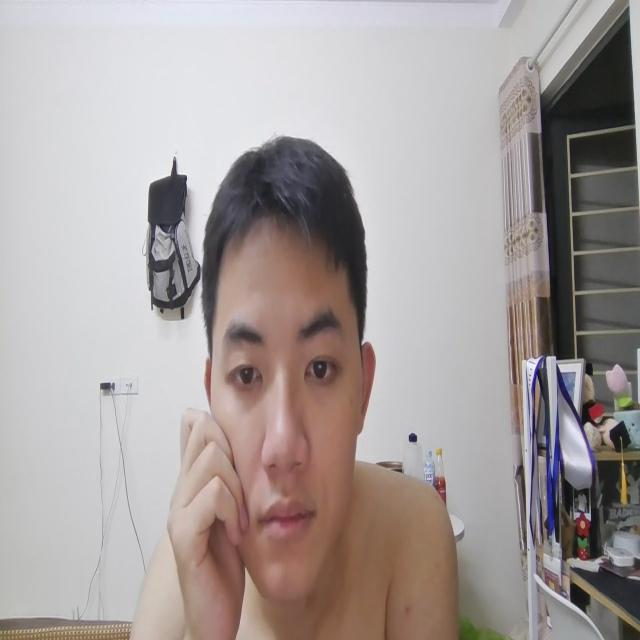student: (173, 126, 388, 640)
